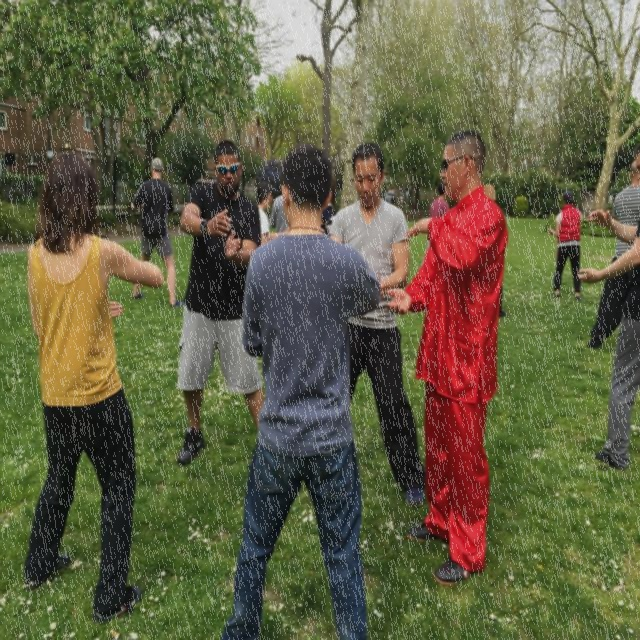pessoa: (222, 143, 382, 639), (24, 154, 164, 624), (382, 125, 514, 589), (328, 143, 426, 508), (175, 138, 268, 469), (574, 203, 640, 473), (582, 155, 640, 354), (126, 154, 182, 310), (544, 188, 584, 301), (482, 182, 508, 317), (253, 180, 288, 246), (314, 170, 338, 238), (269, 194, 290, 234), (428, 182, 450, 217)
